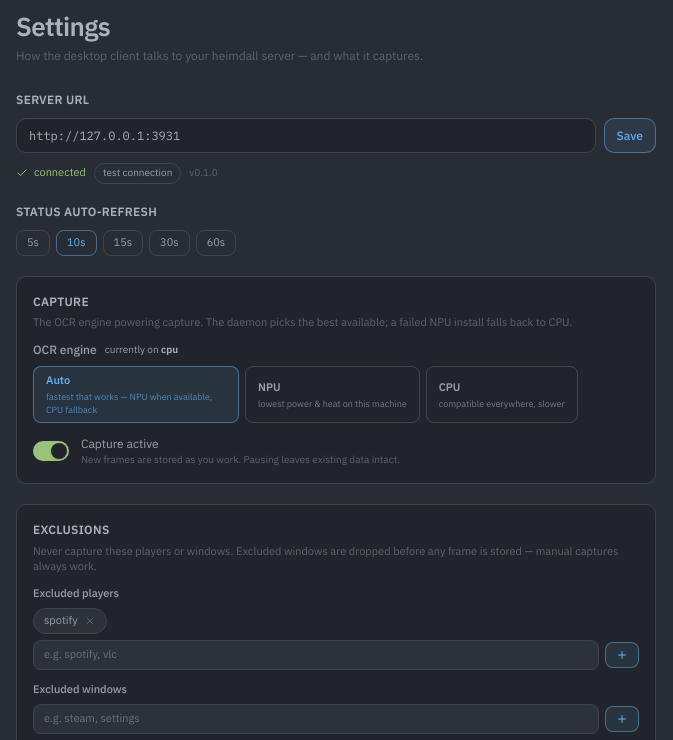
Scenario: SettingsSurface › tests the connection against the draft url
Click the button "test connection".
click(138, 173)  # box [94,163,181,184]
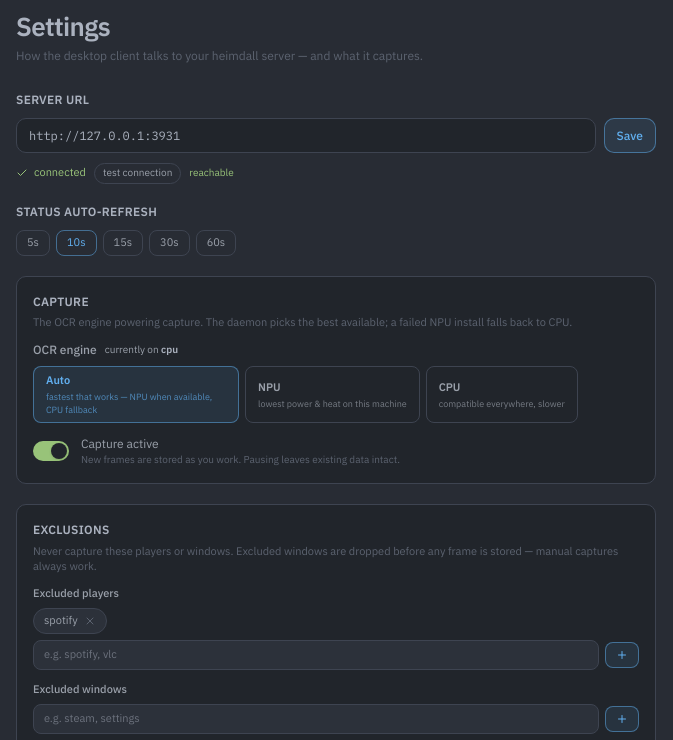
Now the text "reachable" is shown, box [189,166,234,181]
